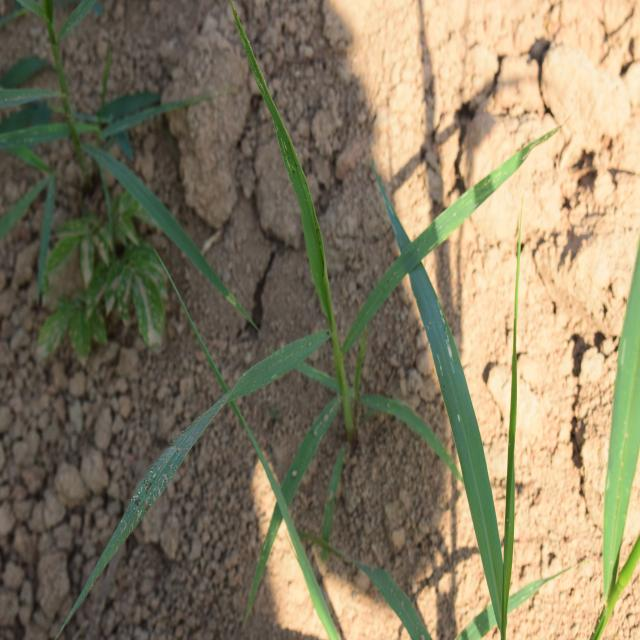green_foxtail: (188, 73, 436, 490), (382, 218, 544, 616)
